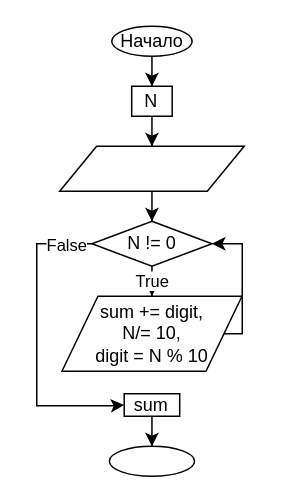
Image size: 281x503. Some labels were removed from this diagram. The box of each missing label's shape, as (x1, y1, x2, y2) in pixels:
sum = 0, digit = N % 10: (58, 145, 244, 191)
Конец: (108, 445, 195, 476)
